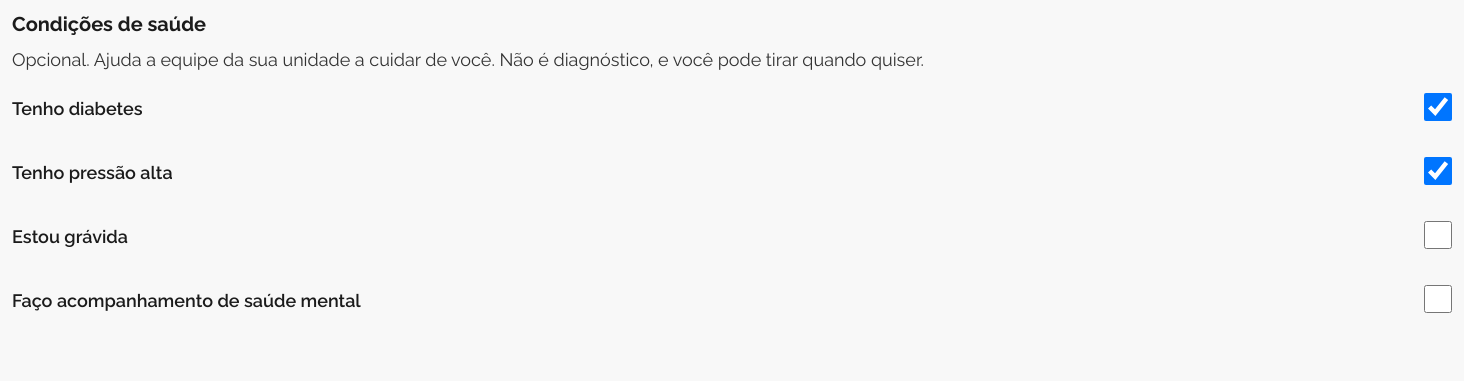
Scenario: HealthConditions › desligar retira e diz que retirou
This screenshot has width=1464, height=381.
Click the switch labelled "Tenho diabetes" at (1438, 107), box [1424, 93, 1452, 121]
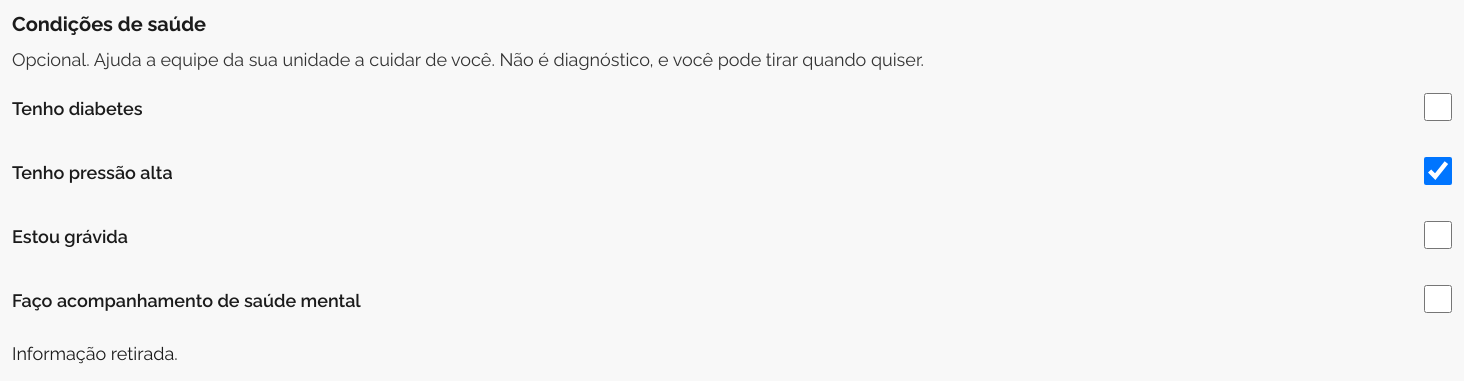
expect the switch labelled "Tenho pressão alta" is checked: met, box [1424, 157, 1452, 185]
expect the switch labelled "Tenho diabetes" is not checked: met, box [1424, 93, 1452, 121]
expect the message reads "Informação retirada.": met, box [12, 339, 178, 364]
